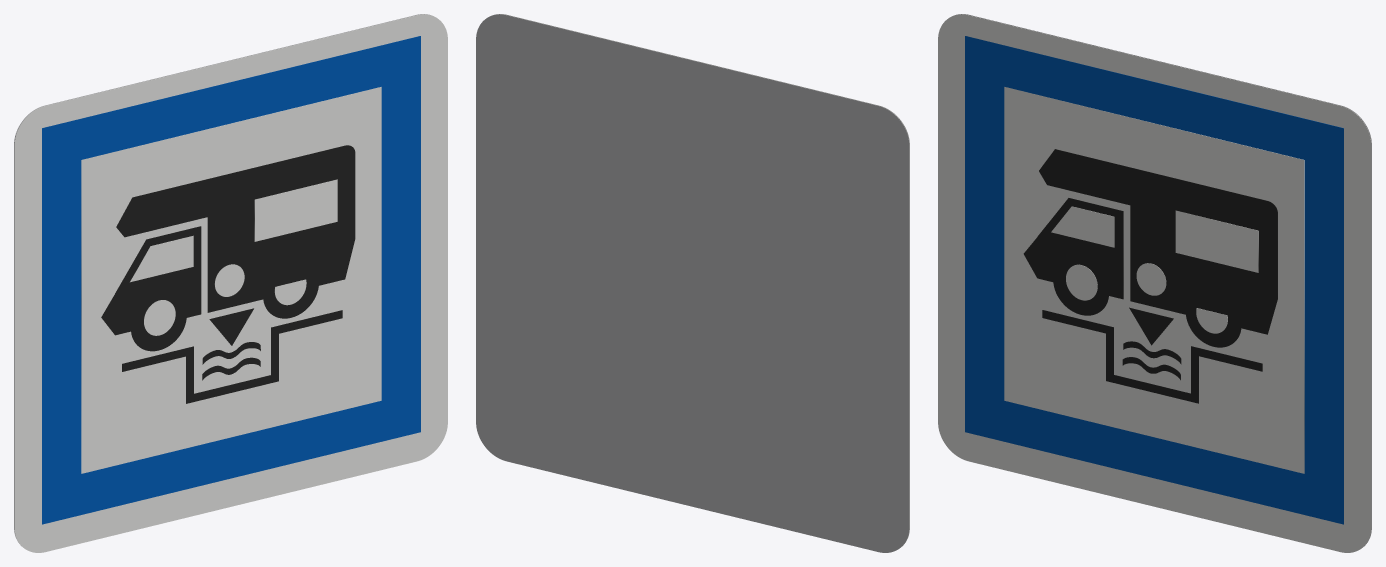
3 views of the same model, side by side, from view 1: azimuth 30°, elevation 25°; view 2: azimuth 150°, elevation 25°; view 3: azimuth 330°, elevation 25° (orthographic).
Visible parts, largest first — view 1: CE24_p02, CE24_p01, CE24_p00, CE24_p03, CE24_p04, CE24_p09, CE24_p12, CE24_p08, CE24_dos, CE24_p05, CE24_p06, CE24_p13 (+1 smaller); view 2: CE24_dos, CE24_p00; view 3: CE24_p02, CE24_p01, CE24_p00, CE24_p03, CE24_p04, CE24_p09, CE24_p12, CE24_p08, CE24_dos, CE24_p05, CE24_p06, CE24_p13 (+1 smaller).
Part boxes in pixels (<box>): CE24_p02: <box>81,87,381,473</box>; CE24_p01: <box>42,36,420,524</box>; CE24_p00: <box>14,14,447,552</box>; CE24_p03: <box>116,145,355,318</box>; CE24_p04: <box>101,226,201,351</box>; CE24_p09: <box>254,179,337,241</box>; CE24_p12: <box>122,310,342,403</box>; CE24_p08: <box>130,235,193,282</box>; CE24_dos: <box>14,14,430,546</box>; CE24_p05: <box>144,300,175,335</box>; CE24_p06: <box>214,264,244,296</box>; CE24_p13: <box>209,308,253,345</box>; CE24_dos: <box>476,14,909,552</box>; CE24_p00: <box>493,14,909,546</box>; CE24_p02: <box>1004,87,1304,473</box>; CE24_p01: <box>965,36,1343,524</box>; CE24_p00: <box>938,14,1371,552</box>; CE24_p03: <box>1039,149,1277,347</box>; CE24_p04: <box>1023,198,1123,315</box>; CE24_p09: <box>1175,210,1258,272</box>; CE24_p12: <box>1042,310,1262,403</box>; CE24_p08: <box>1051,206,1114,247</box>; CE24_dos: <box>955,14,1371,546</box>; CE24_p05: <box>1066,264,1097,300</box>; CE24_p06: <box>1136,263,1166,295</box>; CE24_p13: <box>1129,307,1173,345</box>.
Bounding box in the file's own units: 0.7 × 0.6889 × 0.0071.
